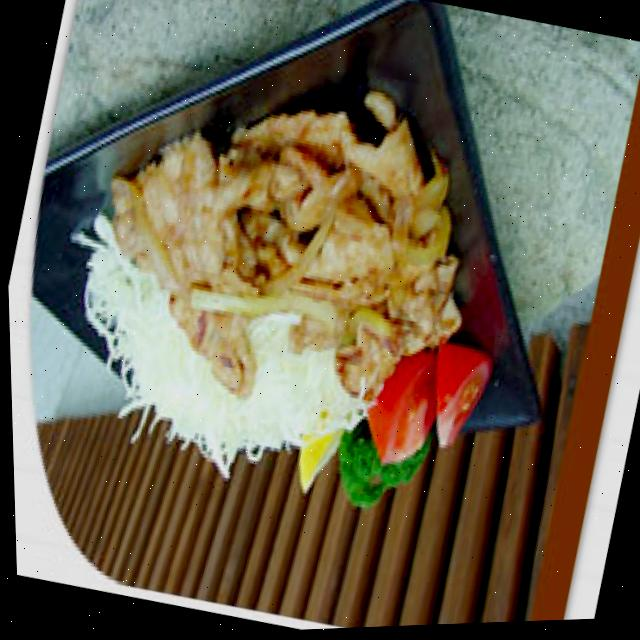猪肉菜式: (55, 43, 503, 491)
